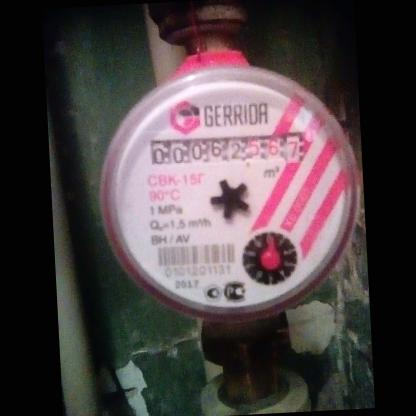digital_screen: (146, 130, 245, 171)
